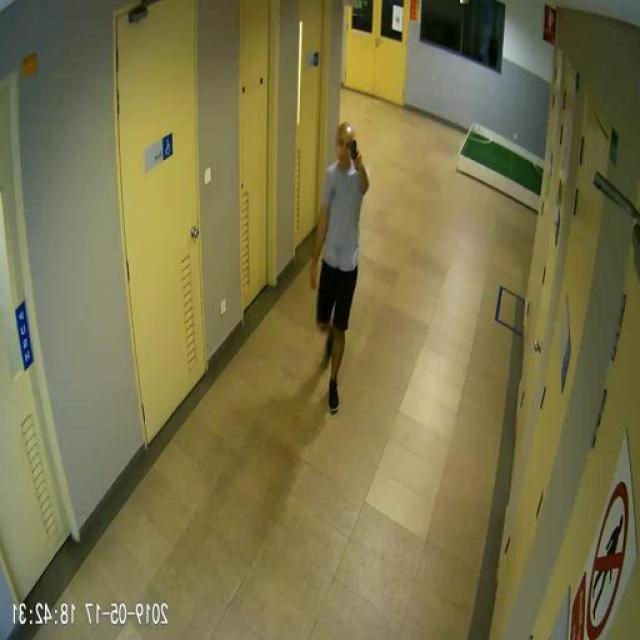weapon: (347, 138, 363, 164)
